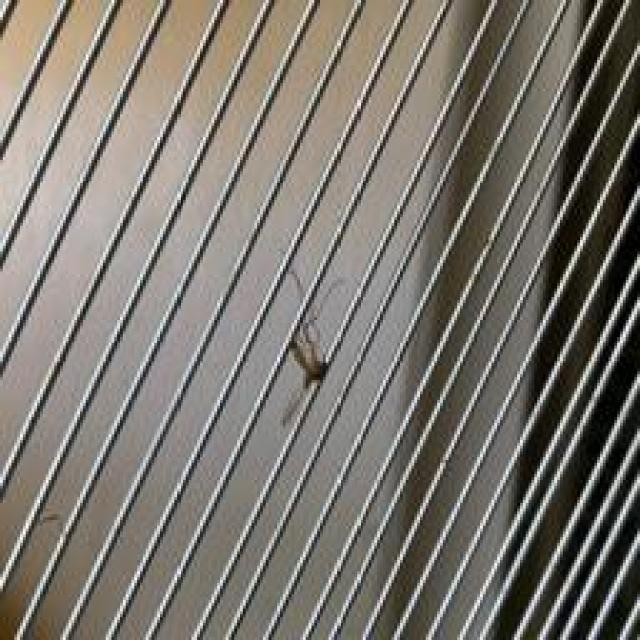Culex: (278, 268, 336, 428)
